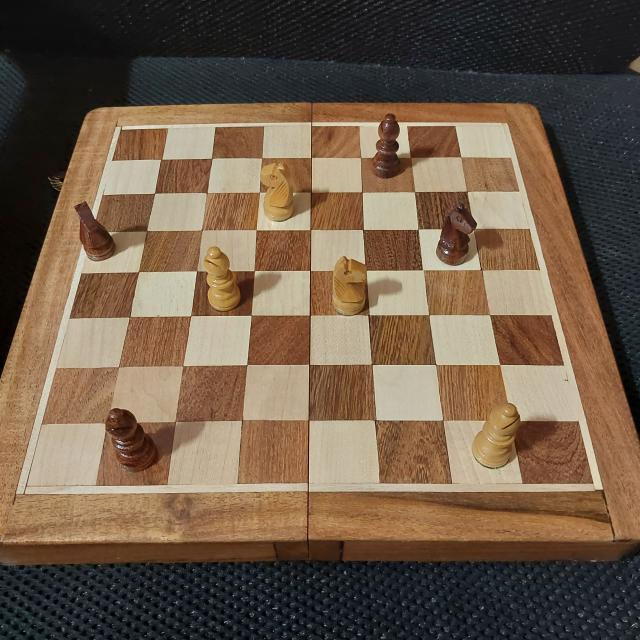black-camel: (101, 408, 158, 478), (364, 110, 406, 179)
black-horse: (64, 197, 116, 270), (432, 204, 482, 264)
white-camel: (468, 392, 525, 478), (197, 242, 246, 316)
white-horse: (258, 156, 300, 227), (324, 256, 372, 318)
